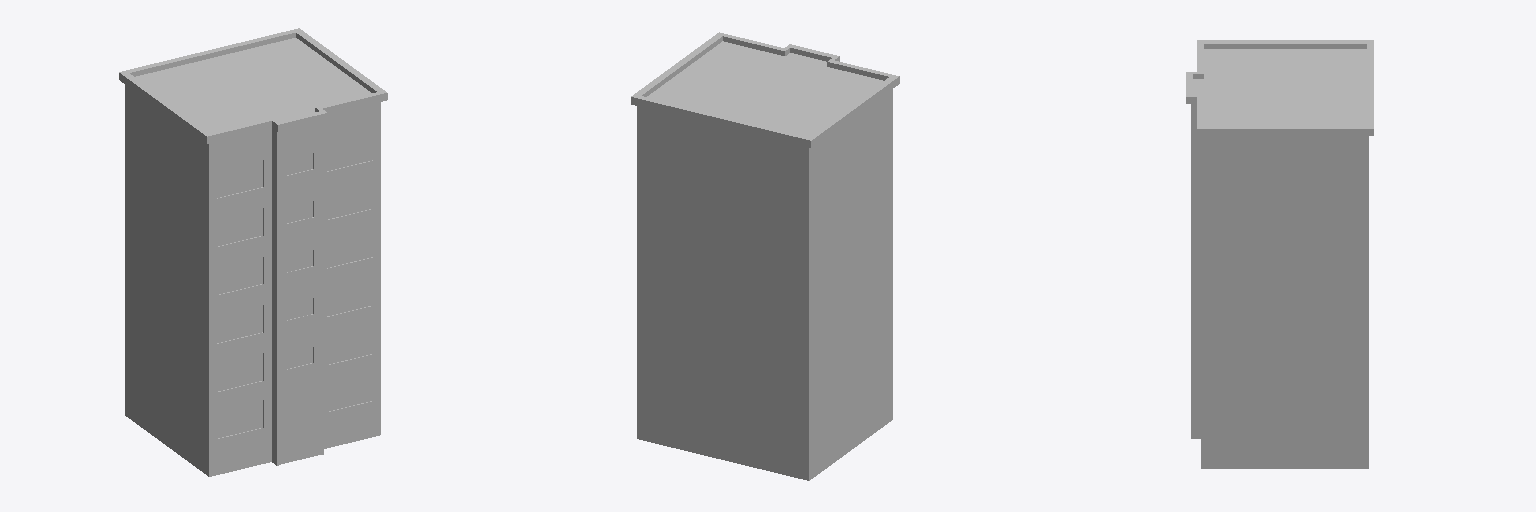
File: Building Sky_big_color01.obj
The picture shows the model from 3 angles: view 1: azimuth 30°, elevation 25°; view 2: azimuth 150°, elevation 25°; view 3: azimuth 270°, elevation 25°; orthographic projection.
Parts seen in each view (by area): view 1: Building_Sky_big_color01; view 2: Building_Sky_big_color01; view 3: Building_Sky_big_color01.
Part boxes in pixels (x1,y1,x2,y2): Building_Sky_big_color01: (119, 28, 387, 476); Building_Sky_big_color01: (631, 32, 899, 480); Building_Sky_big_color01: (1186, 40, 1373, 468).
Bounding box in the file's own units: 538 × 976 × 484.